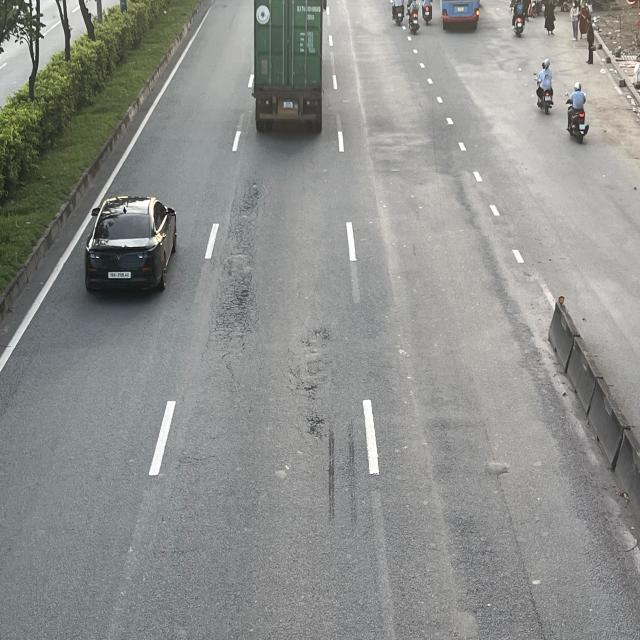car: (86, 192, 180, 294)
container: (251, 2, 328, 137)
